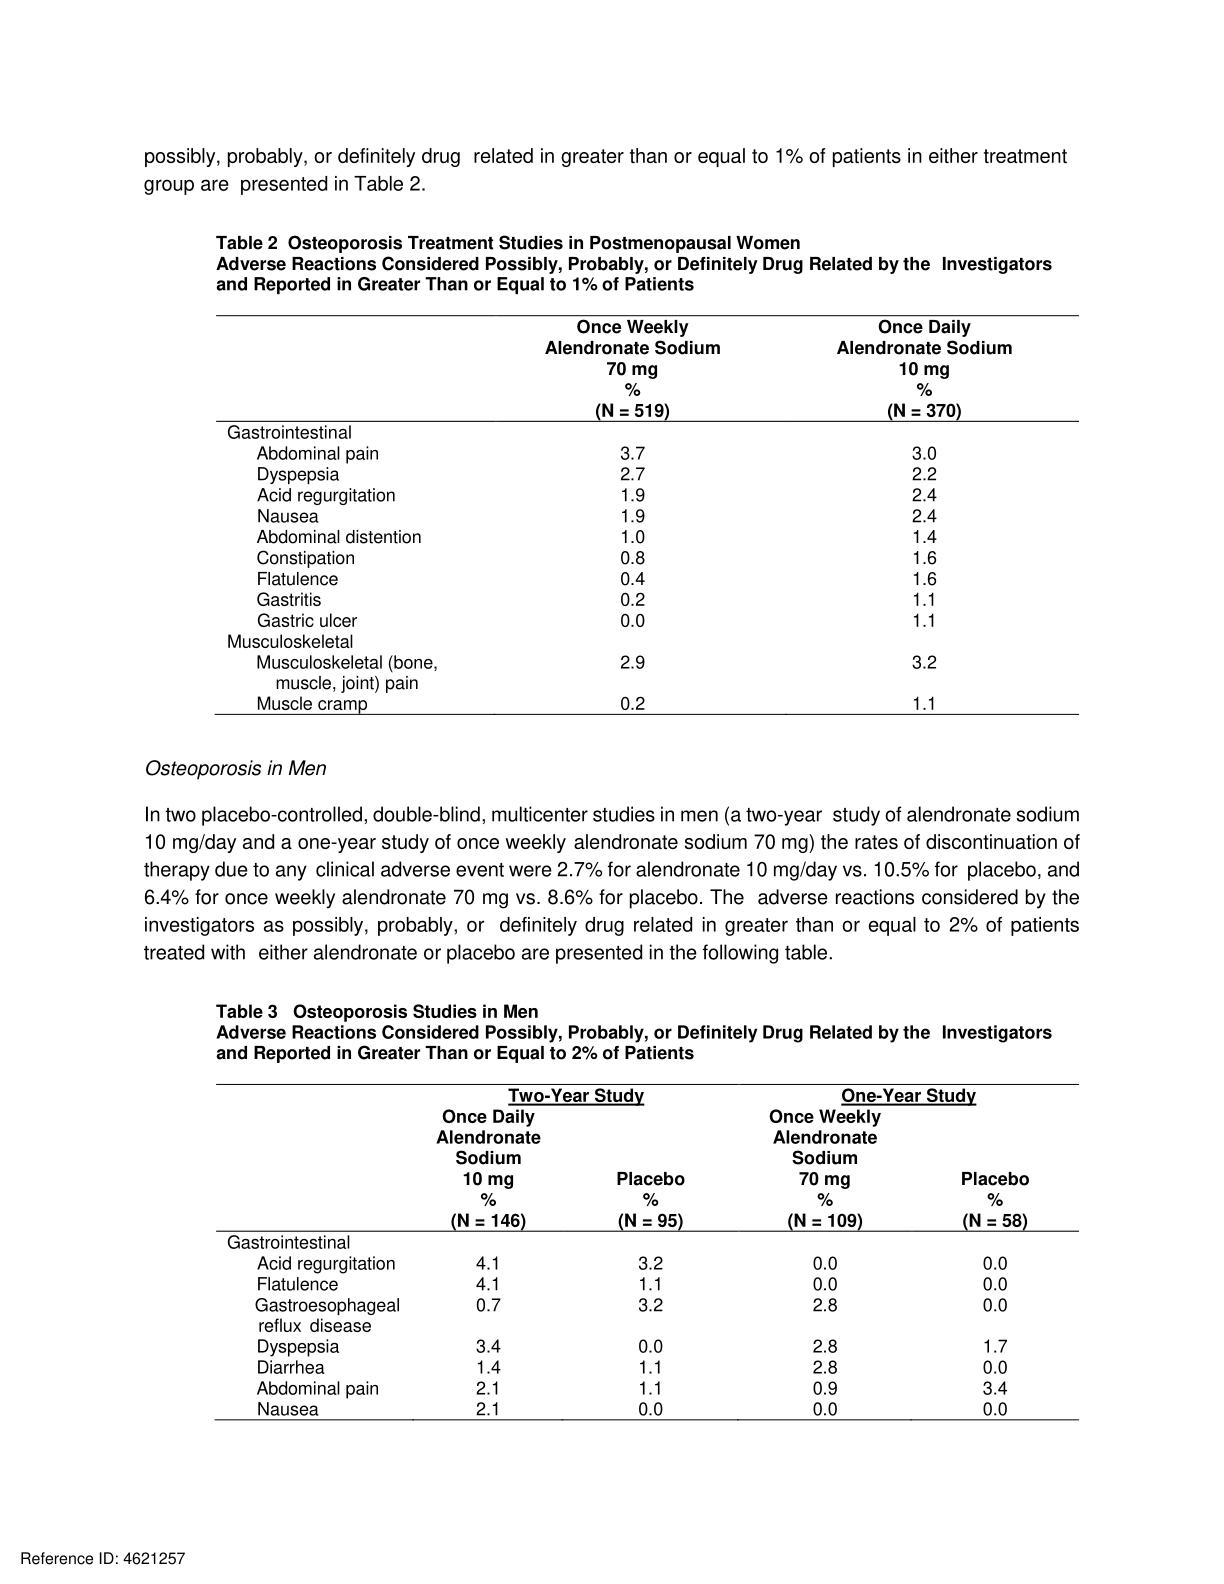partial_lined: (212, 314, 1081, 717)
partial_lined_merged_cells: (213, 1083, 1083, 1423)
